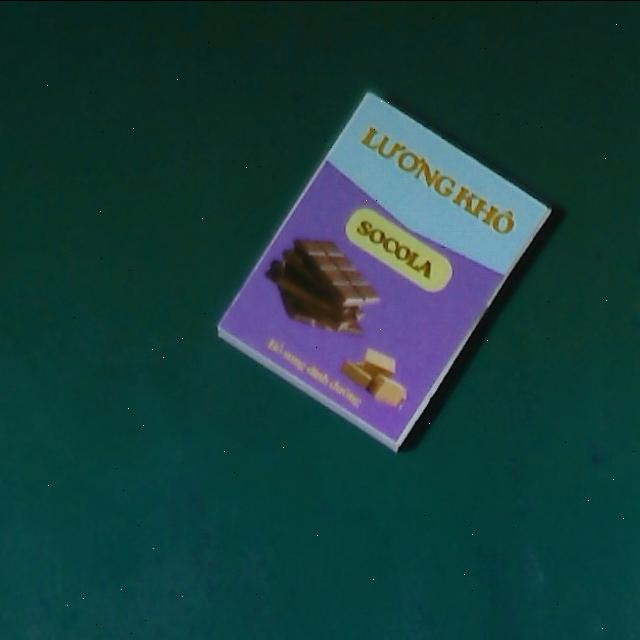socola: (211, 88, 552, 452)
